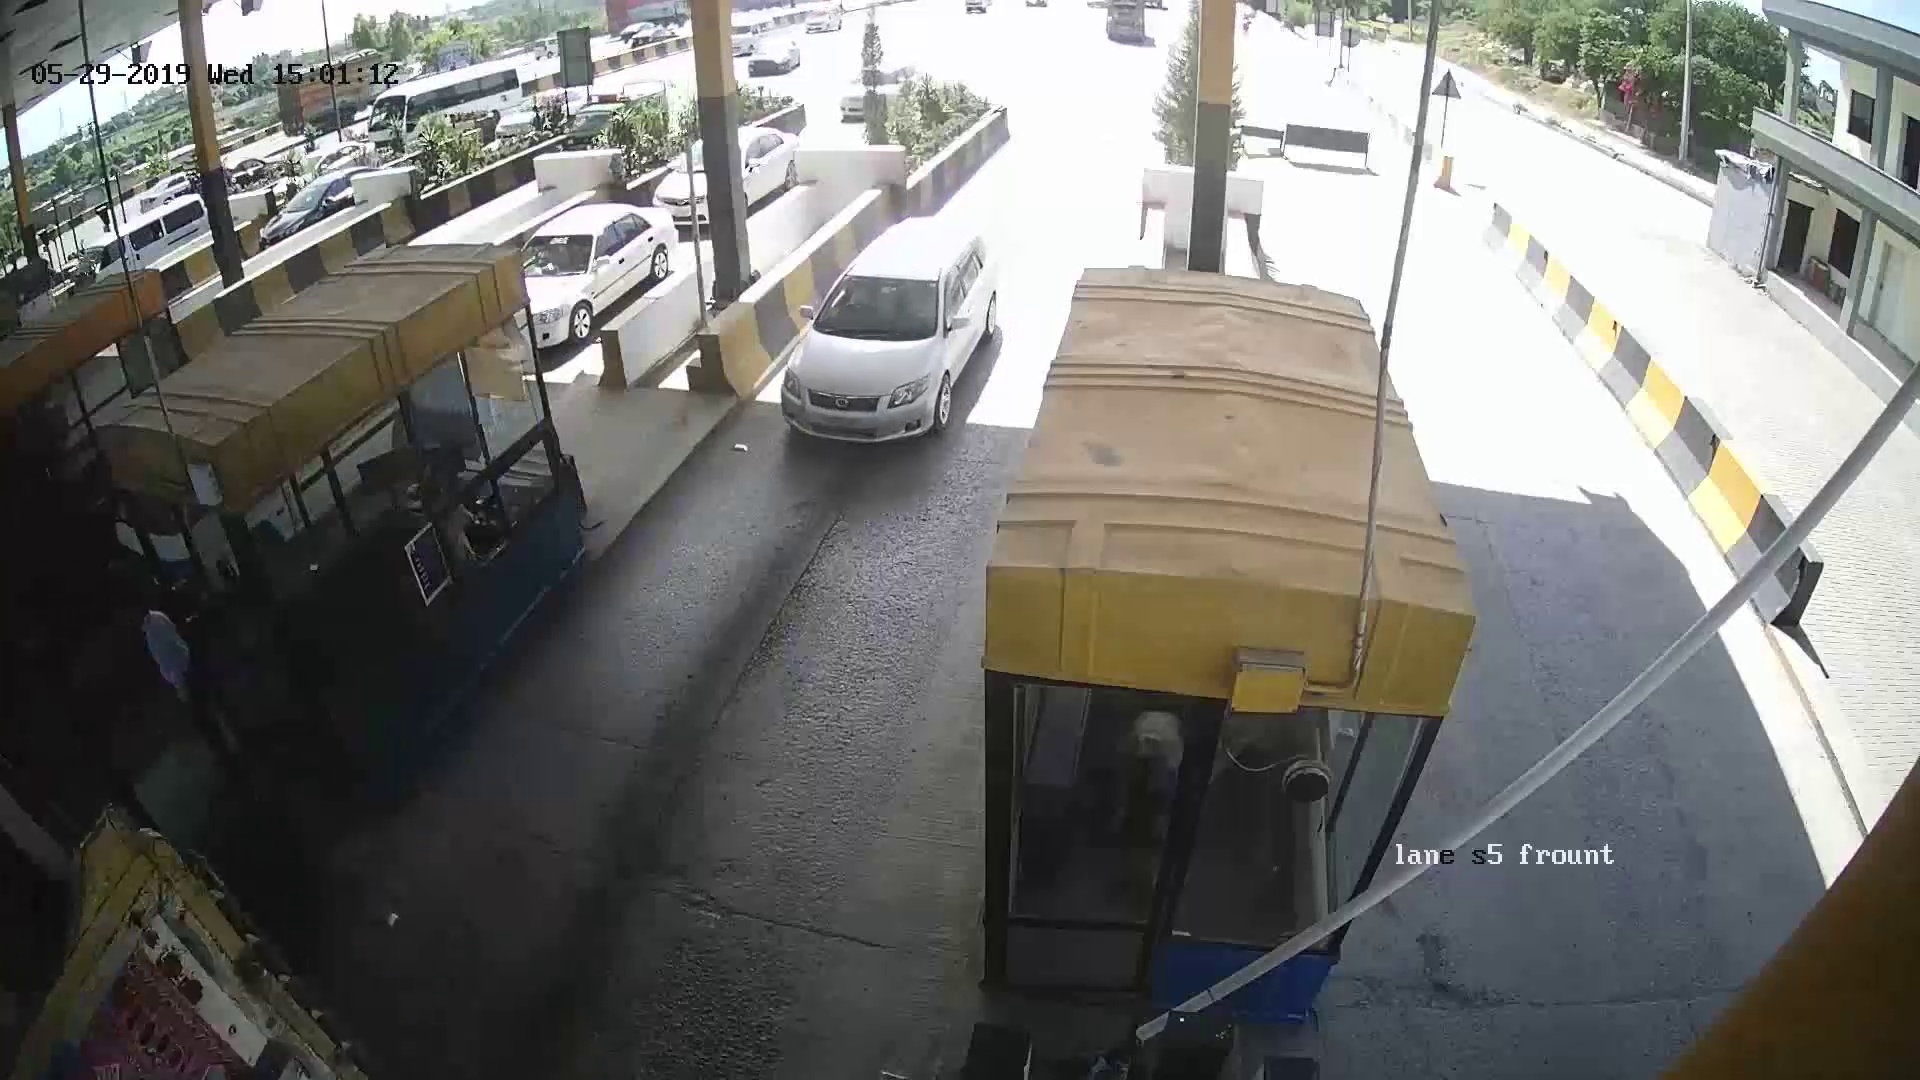car: (785, 232, 971, 429)
